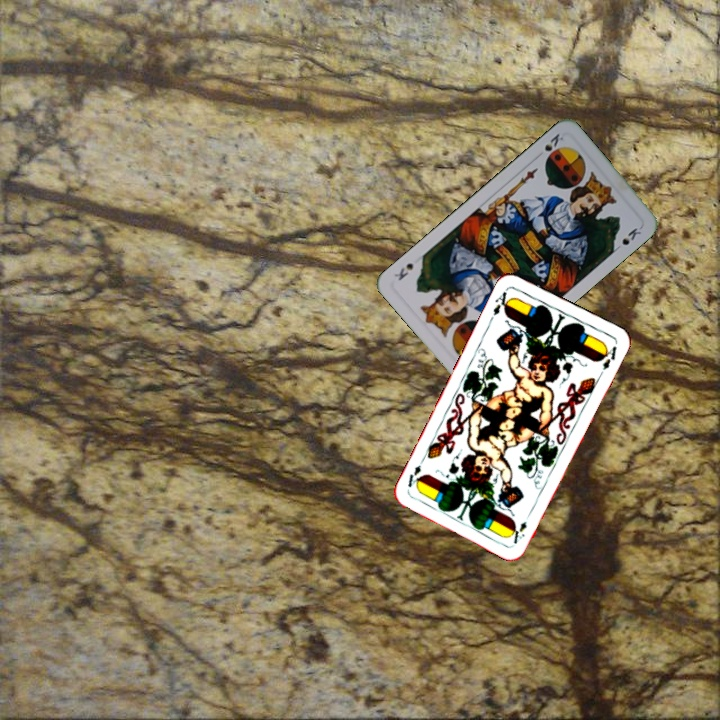EA: (489, 286, 514, 318), (509, 517, 529, 547)
SK: (540, 129, 566, 154)
